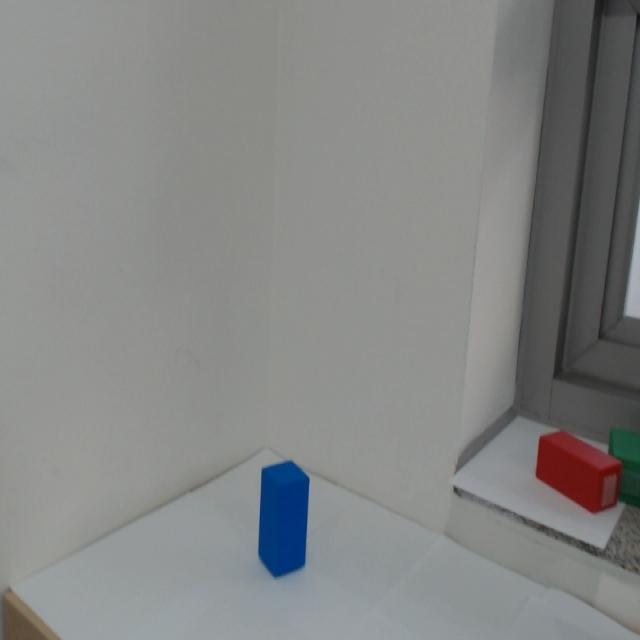cube: (248, 436, 317, 603)
